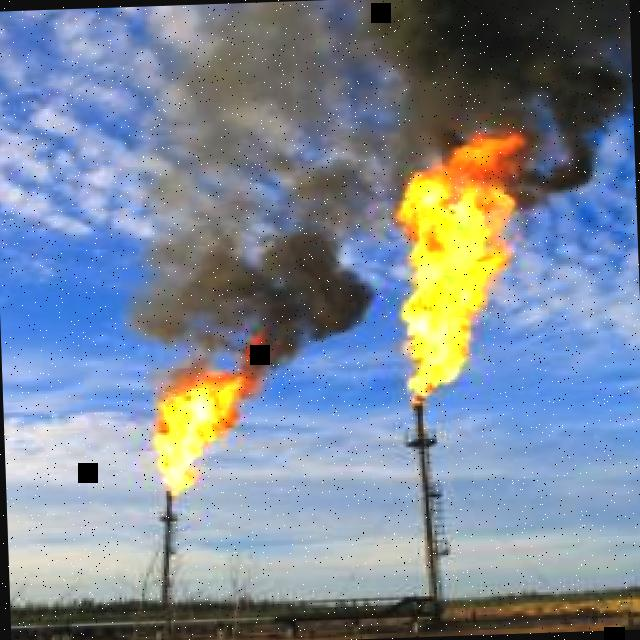fire: (396, 131, 528, 404), (149, 337, 270, 496)
smoke: (126, 0, 633, 372)
